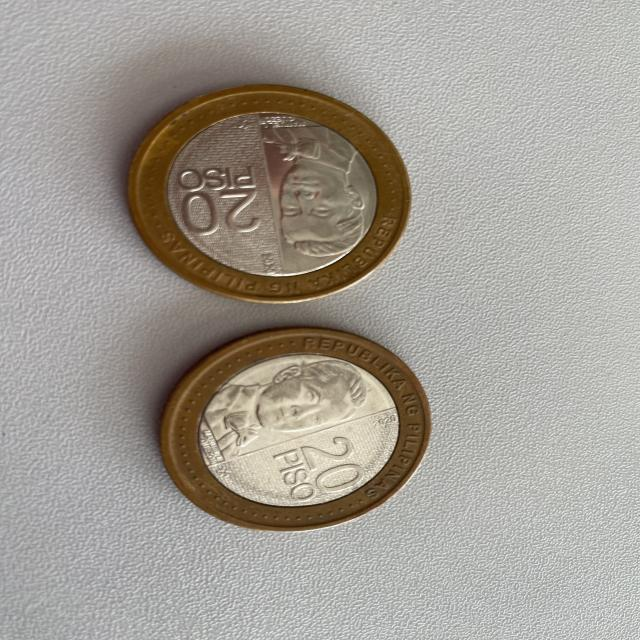20_New_Front: (171, 190, 268, 237), (300, 434, 370, 494)
